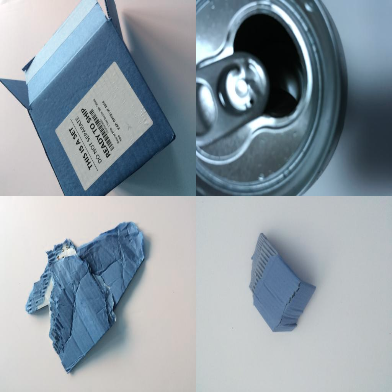cardboard: (1, 1, 178, 195), (24, 221, 146, 372), (249, 231, 316, 331)
metal: (197, 1, 348, 194)
